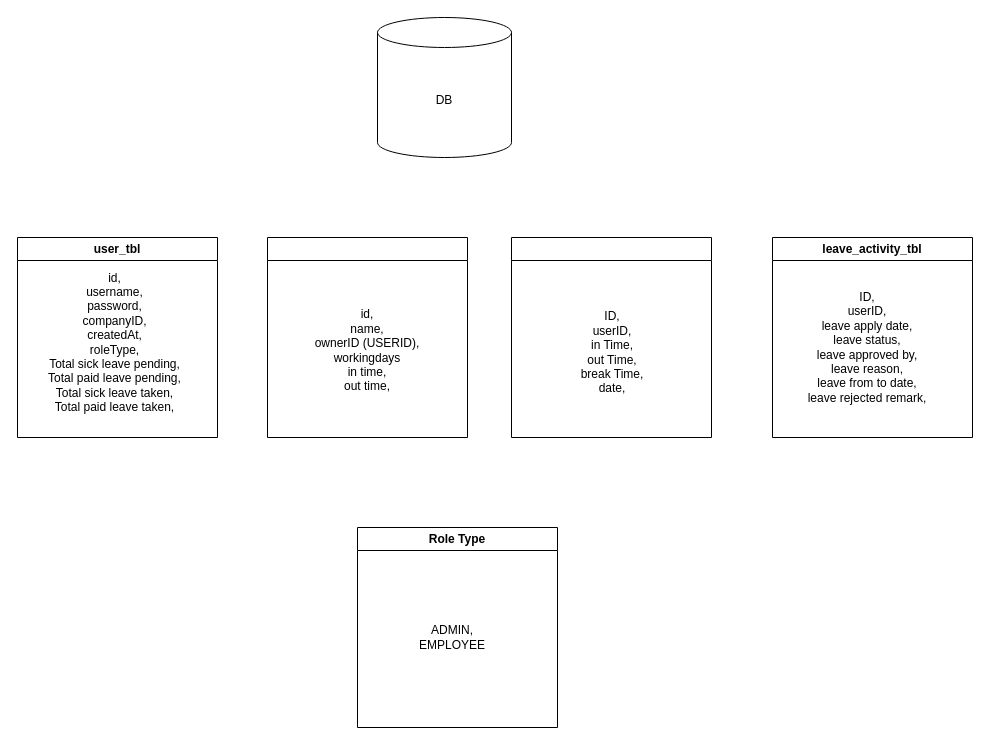
Some shapes in this 990 by 745 pixel diagram are drawn without their labels. Here are the shapes that lost their labels. From the top down, the box of each, then its label:
(266, 236, 468, 438): compnay_tbl
(510, 236, 712, 438): user_activity_tbl
